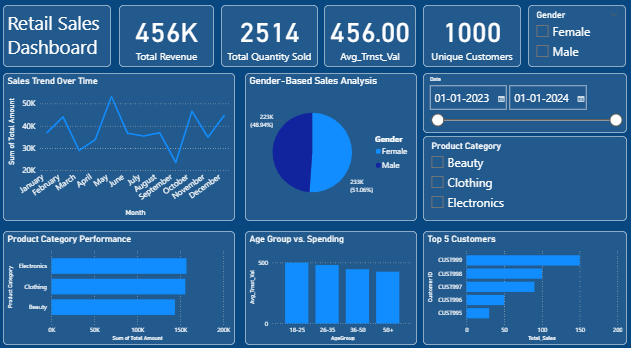

The page's visual inventory and layout, read from the dashboard file:
{"tool":"powerbi","page":{"name":"Page 1","canvas":[1280,720],"ordinal":0},"visuals":[{"type":"card","fields":{"Values":["retail_sales_dataset.Total_Sales"]},"box":[248,24,190,124],"z":0},{"type":"card","fields":{"Values":["retail_sales_dataset.Total_Qty_Sold"]},"box":[452,24,194,124],"z":1000},{"type":"card","fields":{"Values":["retail_sales_dataset.Avg_Trnst_Val"]},"box":[658,24,184,124],"z":2000},{"type":"card","fields":{"Values":["retail_sales_dataset.Unique_Customers"]},"box":[856,24,196,124],"z":3000},{"type":"textbox","box":[16,24,216,124],"z":4000},{"type":"lineChart","title":"Sales Trend Over Time","fields":{"Category":["retail_sales_dataset.Date.Variation.Date Hierarchy.Month","retail_sales_dataset.Date.Variation.Date Hierarchy.Day"],"Y":["Sum(retail_sales_dataset.Total Amount)"]},"box":[16,160,464,296],"z":5000},{"type":"barChart","title":"Product Category Performance","fields":{"Category":["retail_sales_dataset.Product Category"],"Y":["Sum(retail_sales_dataset.Total Amount)"]},"box":[16,476,464,228],"z":6000},{"type":"pieChart","title":"Gender-Based Sales Analysis","fields":{"Category":["retail_sales_dataset.Gender"],"Y":["Sum(retail_sales_dataset.Total Amount)"]},"box":[500,160,344,296],"z":7000},{"type":"columnChart","title":"Age Group vs. Spending","fields":{"Y":["retail_sales_dataset.Average_Transaction_Value"],"Category":["retail_sales_dataset.AgeGroup"]},"box":[500,476,344,228],"z":8000},{"type":"slicer","fields":{"Values":["retail_sales_dataset.Gender"]},"box":[1066,24,196,124],"z":9000},{"type":"clusteredBarChart","title":"Top 5 Customers","fields":{"Category":["retail_sales_dataset.Customer ID"],"Y":["retail_sales_dataset.Total_Sales"]},"box":[856,476,408,228],"z":10000},{"type":"slicer","fields":{"Values":["retail_sales_dataset.Date"]},"box":[856,160,408,120],"z":11000},{"type":"slicer","fields":{"Values":["retail_sales_dataset.Product Category"]},"box":[856,286,408,170],"z":12000}]}

Visuals, with their boxes in screenshot pixels (x1, y1, x2, y2), scaled from the page's 1280x720 canvas onto the 631x348 screenshot:
card - retail_sales_dataset.Total_Sales: detection(122, 12, 216, 72)
card - retail_sales_dataset.Total_Qty_Sold: detection(223, 12, 318, 72)
card - retail_sales_dataset.Avg_Trnst_Val: detection(324, 12, 415, 72)
card - retail_sales_dataset.Unique_Customers: detection(422, 12, 519, 72)
textbox: detection(8, 12, 114, 72)
"Sales Trend Over Time" lineChart: detection(8, 77, 237, 220)
"Product Category Performance" barChart: detection(8, 230, 237, 340)
"Gender-Based Sales Analysis" pieChart: detection(246, 77, 416, 220)
"Age Group vs. Spending" columnChart: detection(246, 230, 416, 340)
slicer - retail_sales_dataset.Gender: detection(526, 12, 622, 72)
"Top 5 Customers" clusteredBarChart: detection(422, 230, 623, 340)
slicer - retail_sales_dataset.Date: detection(422, 77, 623, 135)
slicer - retail_sales_dataset.Product Category: detection(422, 138, 623, 220)
